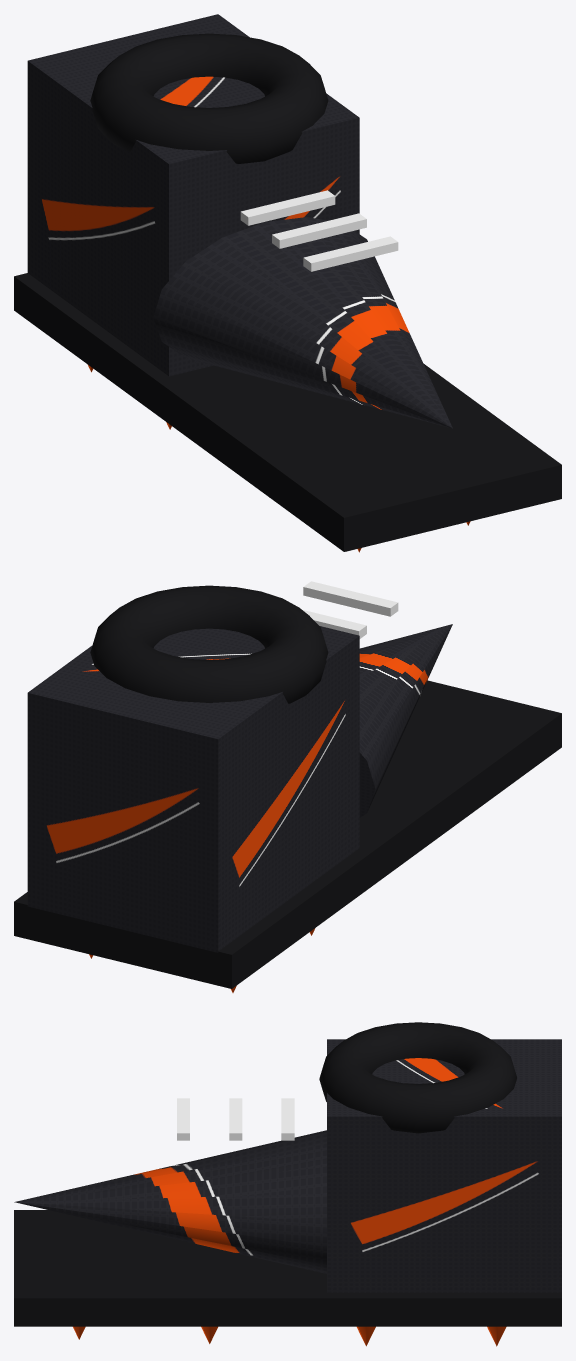
Rendered from cleats.glb.
3 views of the same model, one above another, from view 1: azimuth 30°, elevation 25°; view 2: azimuth 150°, elevation 25°; view 3: azimuth 270°, elevation 25° (orthographic). The views are drawn at different scales.
Size of the model in its own units: 0.816 by 1.11 by 2.1.
Materials: 4 (1 with a texture image).
